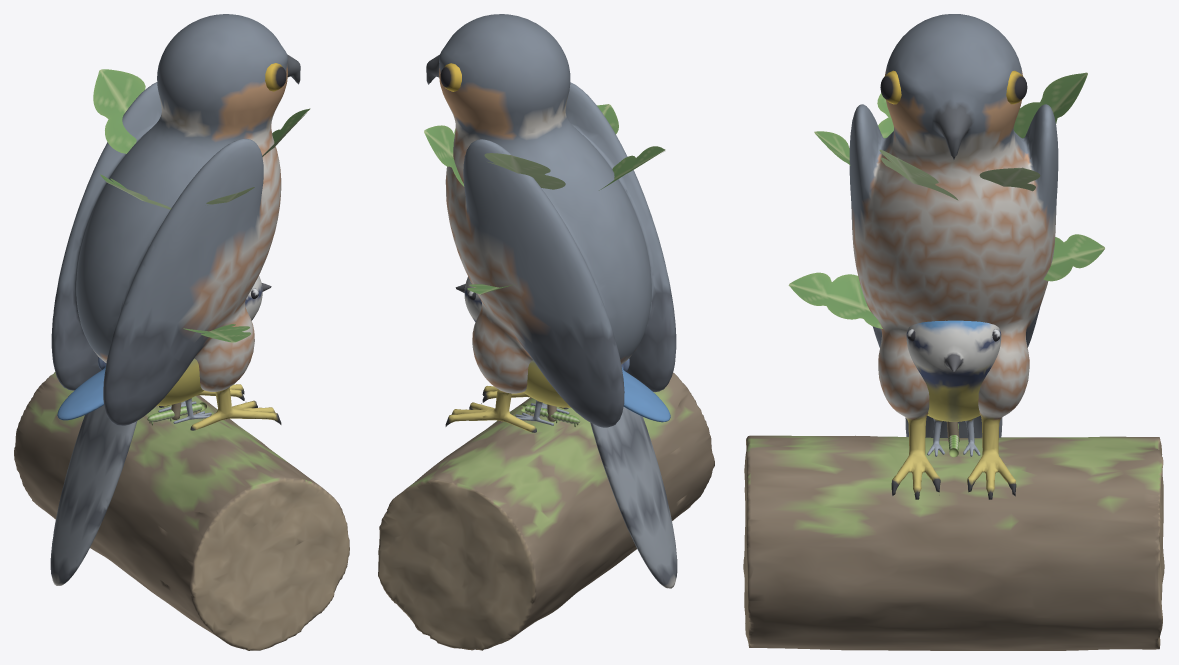
Rendered from food-chain.glb.
3 views of the same model, side by side, from view 1: azimuth 30°, elevation 25°; view 2: azimuth 150°, elevation 25°; view 3: azimuth 270°, elevation 25° (orthographic). The views are drawn at different scales.
Visible parts, largest first — view 1: hawk, sprig, blueTit; view 2: hawk, sprig, blueTit; view 3: hawk, sprig, blueTit.
Boxes of the visible parts, <box> form: hawk: <box>14,14,349,650</box>; sprig: <box>93,69,310,419</box>; blueTit: <box>57,276,271,423</box>; hawk: <box>378,14,714,650</box>; sprig: <box>424,104,665,421</box>; blueTit: <box>455,276,670,425</box>; hawk: <box>743,14,1164,650</box>; sprig: <box>788,72,1104,442</box>; blueTit: <box>906,320,1001,456</box>.
Size of the model in its own units: 13.42 by 29.02 by 17.24.
